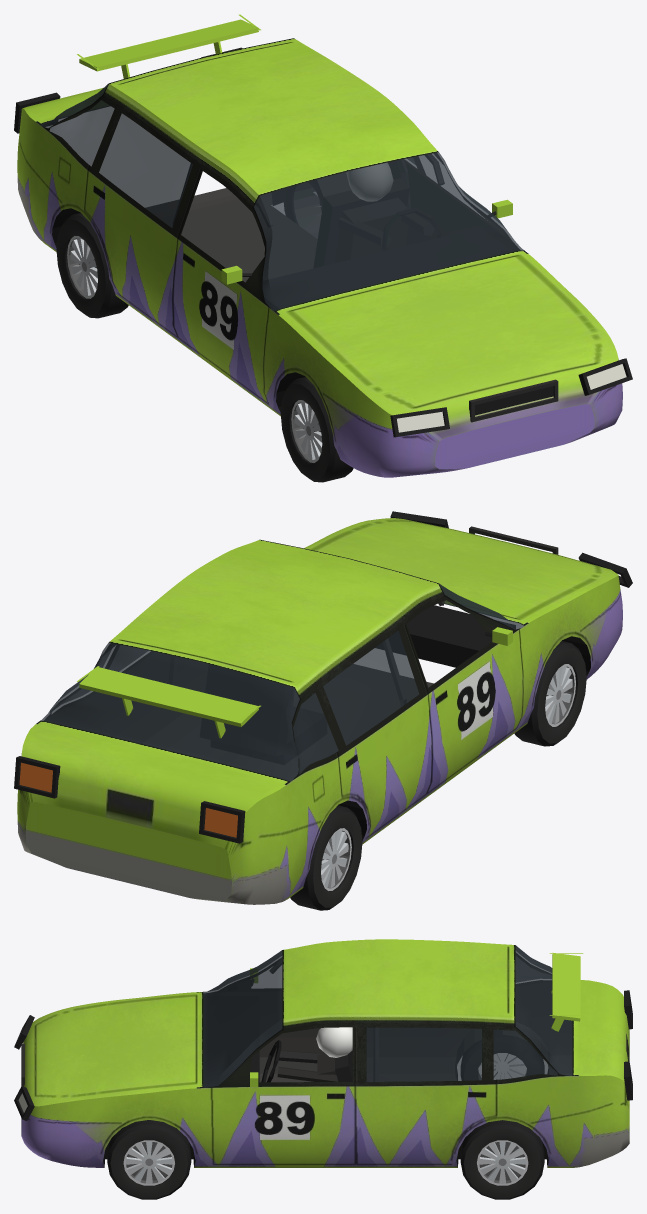
3 renders of one model, top to bottom at view 1: azimuth 30°, elevation 25°; view 2: azimuth 150°, elevation 25°; view 3: azimuth 270°, elevation 25°, orthographic. The views are drawn at different scales.
Parts seen in each view (by area): view 1: body, wheel_fr, wheel_rr, wheel_rl; view 2: body, wheel_rr, wheel_fr; view 3: body, wheel_fl, wheel_rl, wheel_rr.
Boxes of the visible parts, bbox=[...] form: body: bbox=[14, 14, 632, 477]; wheel_fr: bbox=[280, 377, 353, 482]; wheel_rr: bbox=[56, 213, 128, 318]; wheel_rl: bbox=[283, 180, 323, 238]; body: bbox=[14, 511, 632, 904]; wheel_rr: bbox=[290, 805, 362, 910]; wheel_fr: bbox=[514, 641, 586, 746]; body: bbox=[14, 939, 632, 1167]; wheel_fl: bbox=[107, 1120, 191, 1199]; wheel_rl: bbox=[460, 1120, 544, 1199]; wheel_rr: bbox=[461, 1030, 544, 1080].
Bounding box in the file's own units: 1.86 × 1.4 × 4.41.
Materials: 2 (1 with a texture image).
